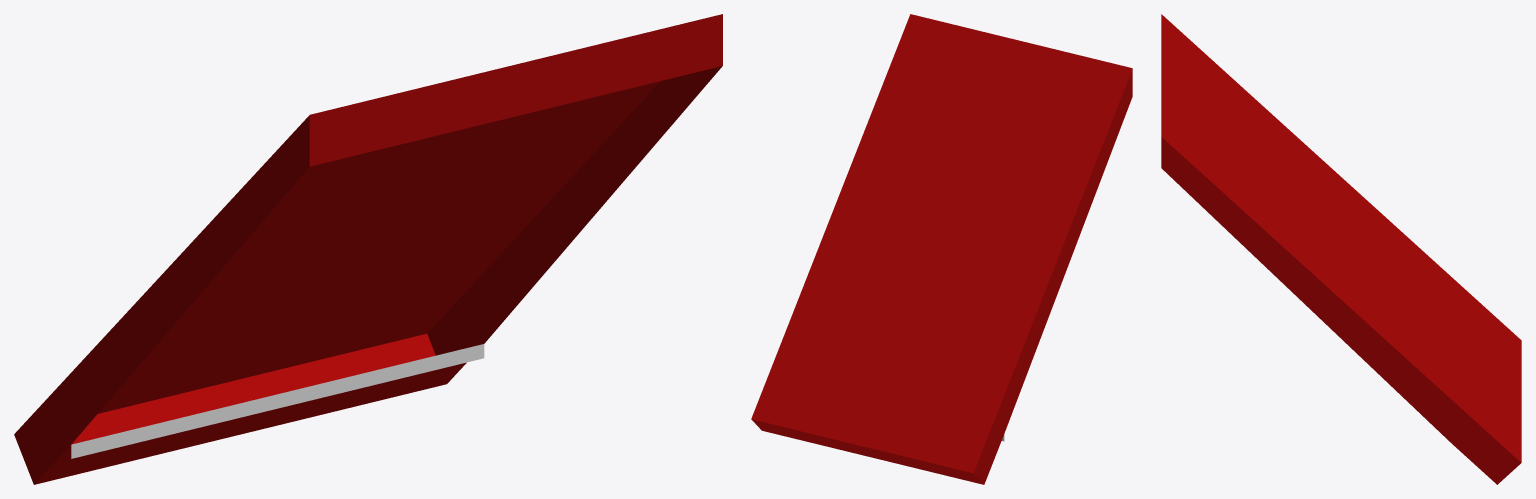
Rendered from Roof_Middle.fbx.
The picture shows the model from 3 angles, left to right: view 1: azimuth 30°, elevation 25°; view 2: azimuth 150°, elevation 25°; view 3: azimuth 270°, elevation 25°; orthographic projection. The views are drawn at different scales.
Parts seen in each view (by area): view 1: Roof_Middle; view 2: Roof_Middle; view 3: Roof_Middle.
Part boxes in pixels (x1,y1,x2,y2): Roof_Middle: [14, 14, 722, 484]; Roof_Middle: [751, 14, 1132, 484]; Roof_Middle: [1161, 14, 1521, 484].
Bounding box in the file's own units: 0.01 × 0.0132 × 0.0124.
